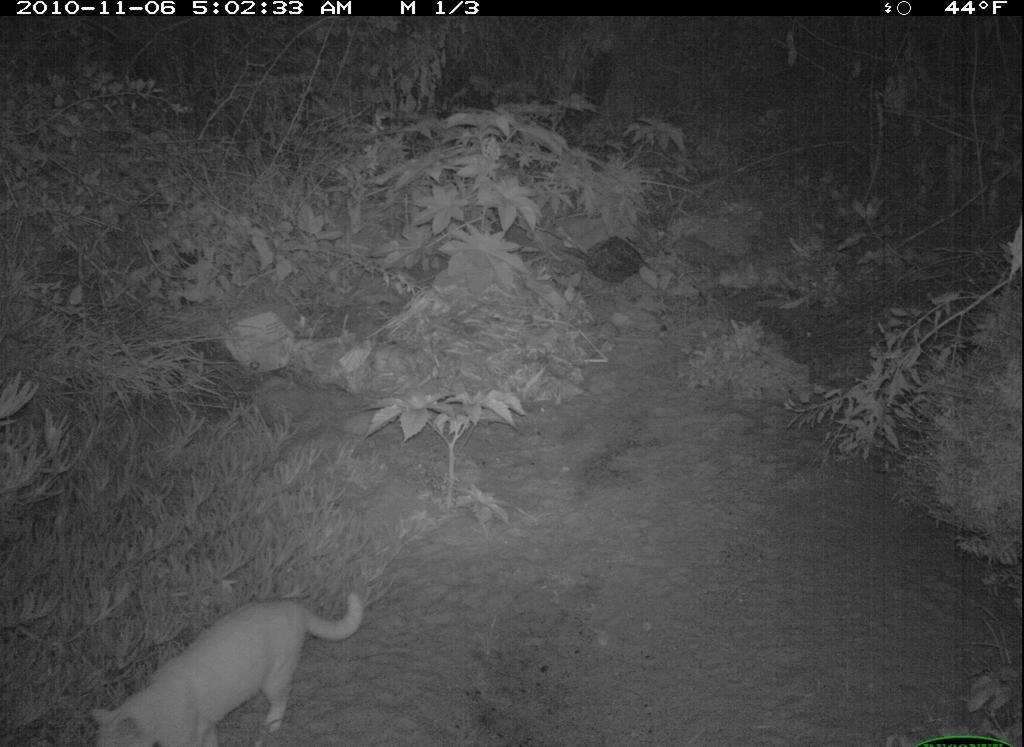cat: (88, 587, 369, 747)
